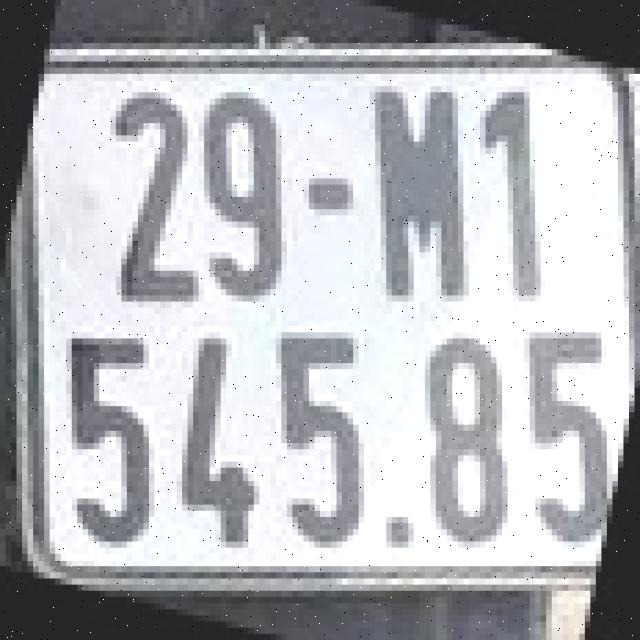1: (480, 90, 552, 298)
2: (105, 86, 204, 308)
4: (174, 329, 262, 551)
5: (273, 326, 373, 548), (64, 329, 158, 545), (524, 326, 613, 542)
8: (422, 329, 516, 545)
9: (201, 86, 290, 302)
M: (370, 83, 469, 299)
